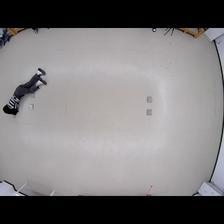fall: (3, 67, 49, 116)
